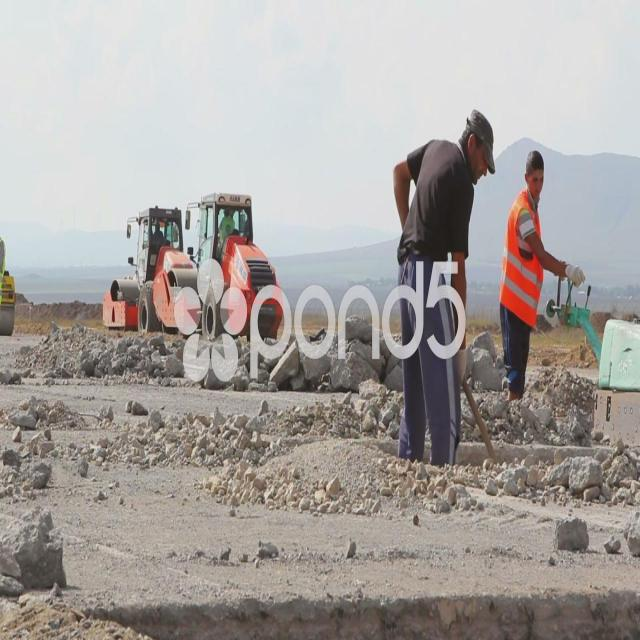Helmet: (401, 107, 477, 344), (460, 94, 509, 244), (517, 126, 558, 222)
Safety Vest: (506, 190, 544, 360)
